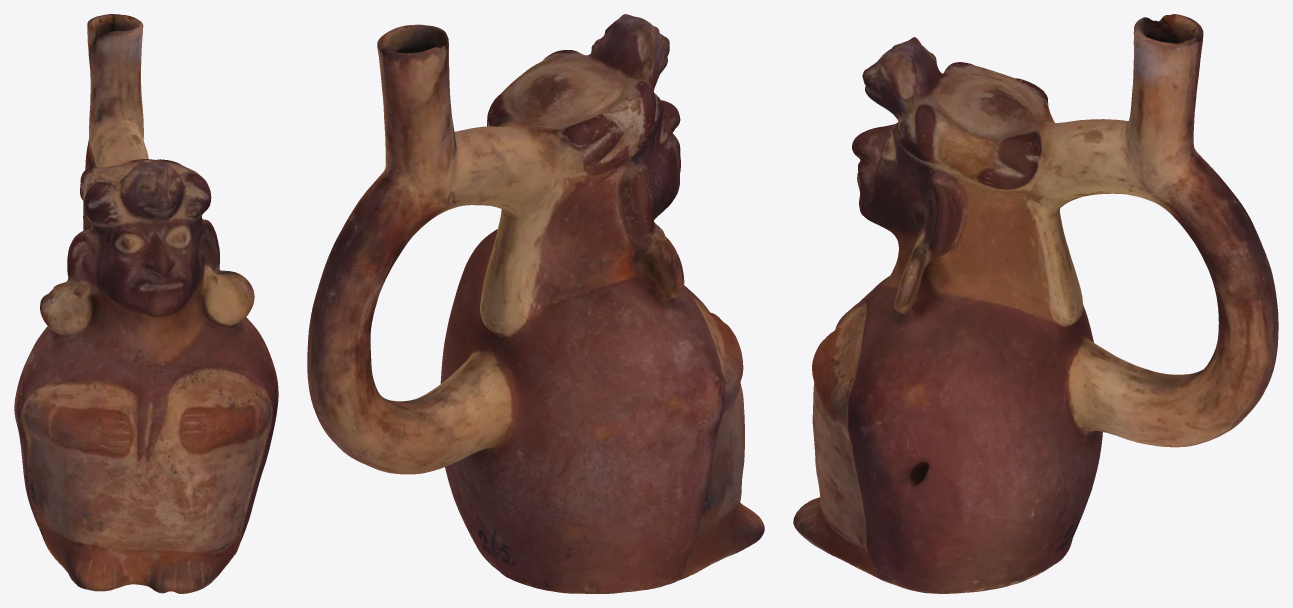
The model's file is preview.glb.
3 views of the same model, side by side, from view 1: azimuth 30°, elevation 25°; view 2: azimuth 150°, elevation 25°; view 3: azimuth 270°, elevation 25° (orthographic). The views are drawn at different scales.
Parts seen in each view (by area): view 1: Object_2; view 2: Object_2; view 3: Object_2.
Part boxes in pixels (left/top/right/bottom): Object_2: left=14, top=14, right=278, bottom=593; Object_2: left=307, top=14, right=764, bottom=593; Object_2: left=793, top=14, right=1278, bottom=593.
Bounding box in the file's own units: 112 × 217 × 172.
1 material, 1 textured.
